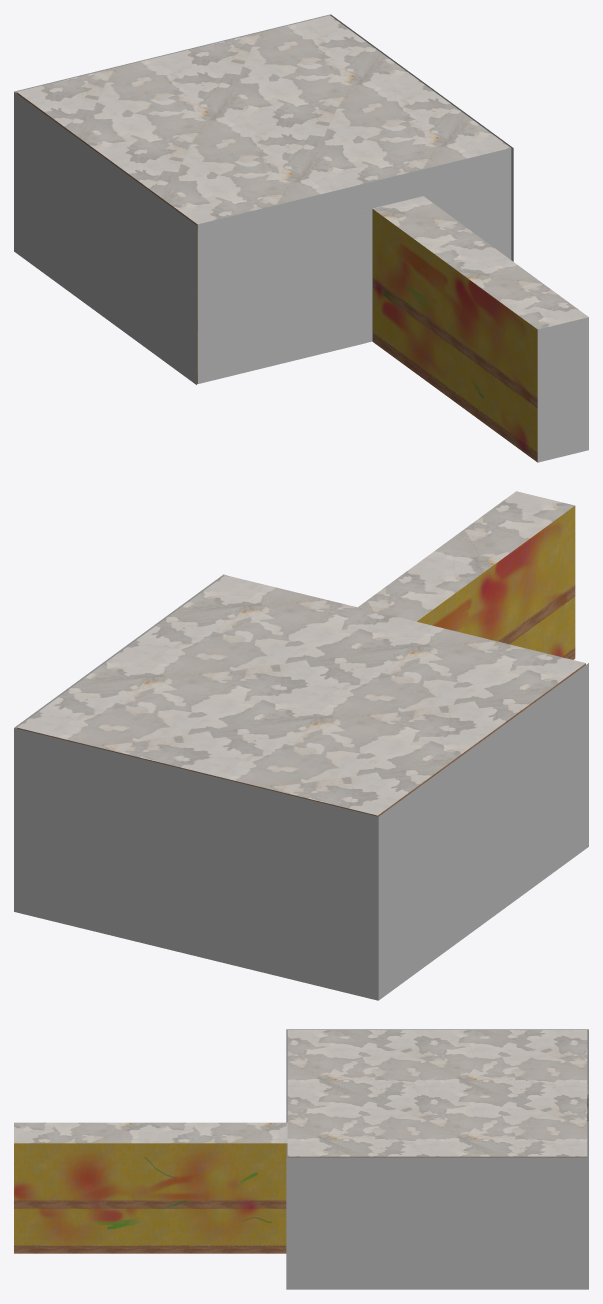
File: WallProject.dae
3 renders of one model, top to bottom at view 1: azimuth 30°, elevation 25°; view 2: azimuth 150°, elevation 25°; view 3: azimuth 270°, elevation 25°, orthographic. The views are drawn at different scales.
Visible parts, largest first — view 1: group_4 (×4), group_0, group_3; view 2: group_3, group_0, group_4 (×2); view 3: group_3, group_0, group_4 (×3).
Boxes of the visible parts, x1=… form: group_4 (×4): x1=197, y1=148, x2=588, y2=462; group_0: x1=17, y1=15, x2=510, y2=224; group_3: x1=14, y1=14, x2=513, y2=384; group_3: x1=14, y1=574, x2=588, y2=1000; group_0: x1=17, y1=575, x2=585, y2=815; group_4 (×2): x1=358, y1=491, x2=575, y2=659; group_3: x1=286, y1=1029, x2=588, y2=1289; group_0: x1=287, y1=1030, x2=587, y2=1156; group_4 (×3): x1=14, y1=1122, x2=586, y2=1253.
Size of the model in its own units: 199 by 378 by 96.
